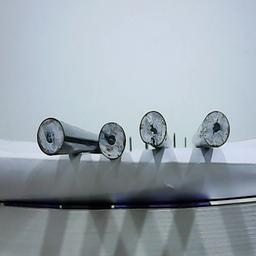pen: (201, 108, 231, 148), (36, 117, 65, 156), (98, 121, 126, 161), (138, 110, 166, 147)
